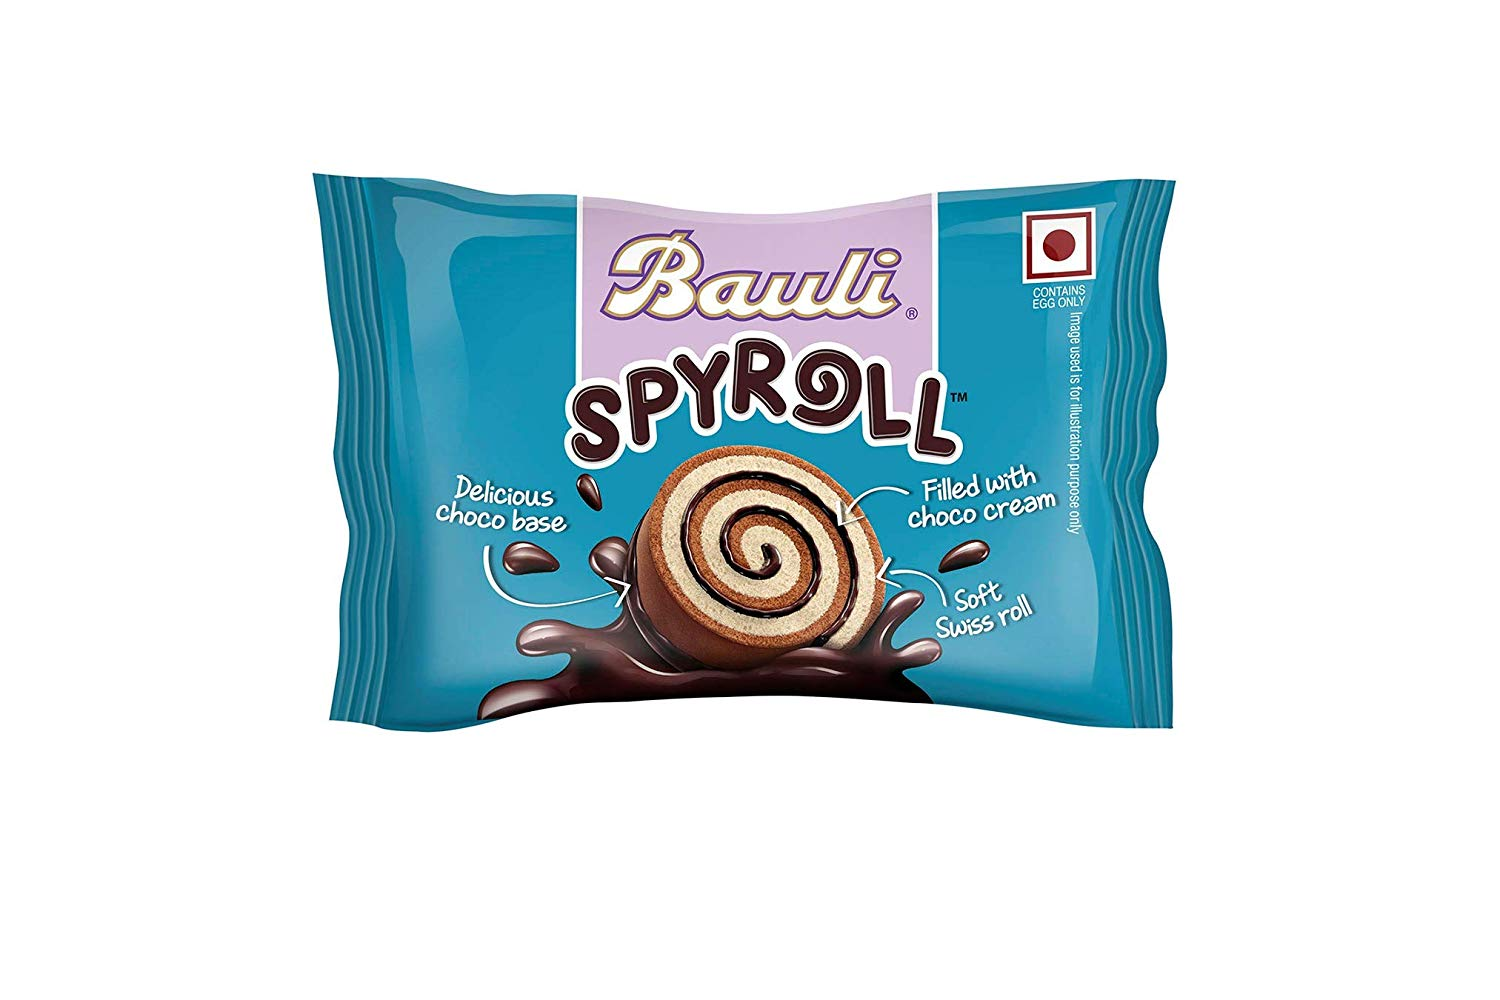nonveg_red: (1025, 209, 1094, 279)
